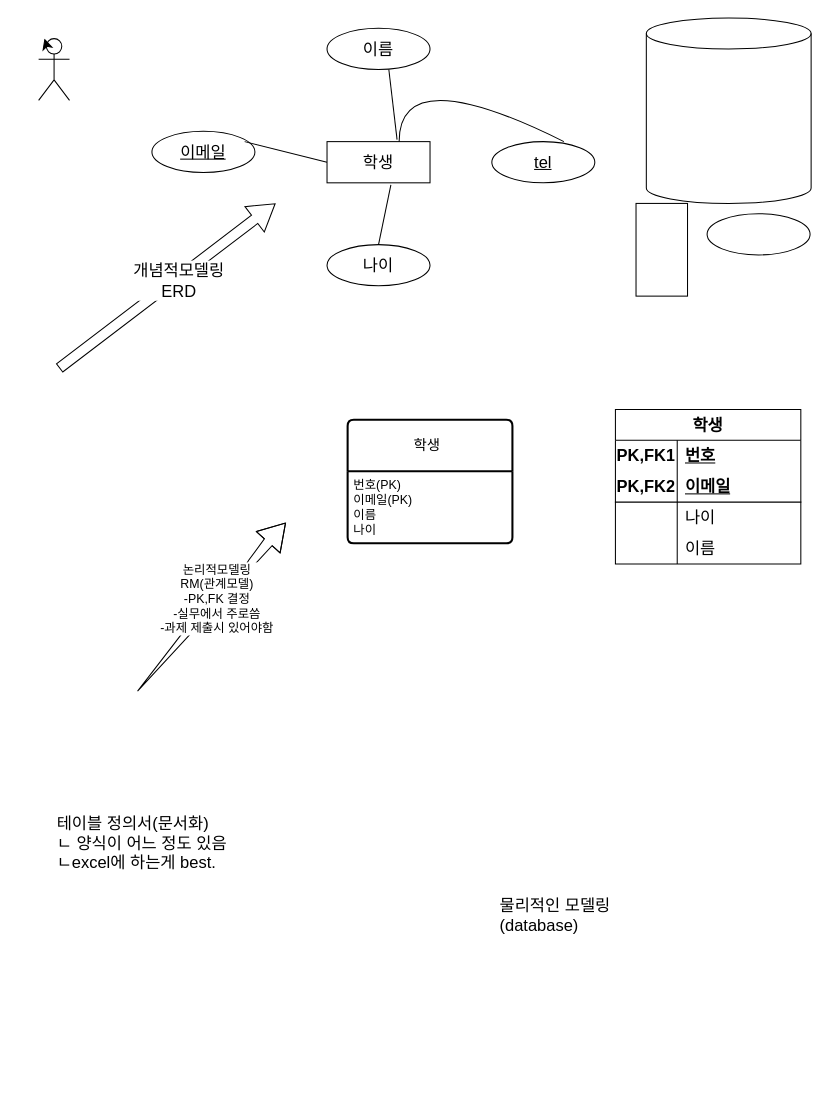
Some shapes in this 829 by 1118 pixel diagram are drawn without their labels. The shapes that lost their labels are listed below. From the top down, each one's centre as x and y in pixels, then its label:
At (54,69): "Student".
At (728,110): "DB DBMS MySQL MSSQL Oracle".
At (661,249): "엔티티 개체".
At (758,234): "Attribute 속성".
